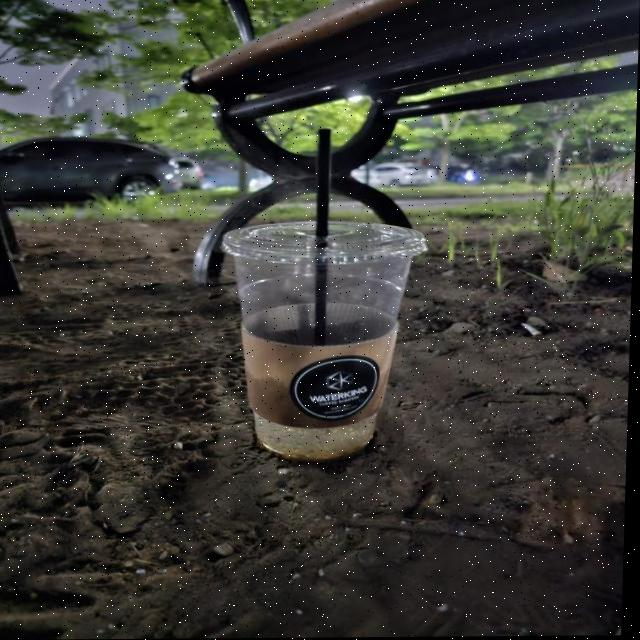cup: (210, 208, 435, 467)
